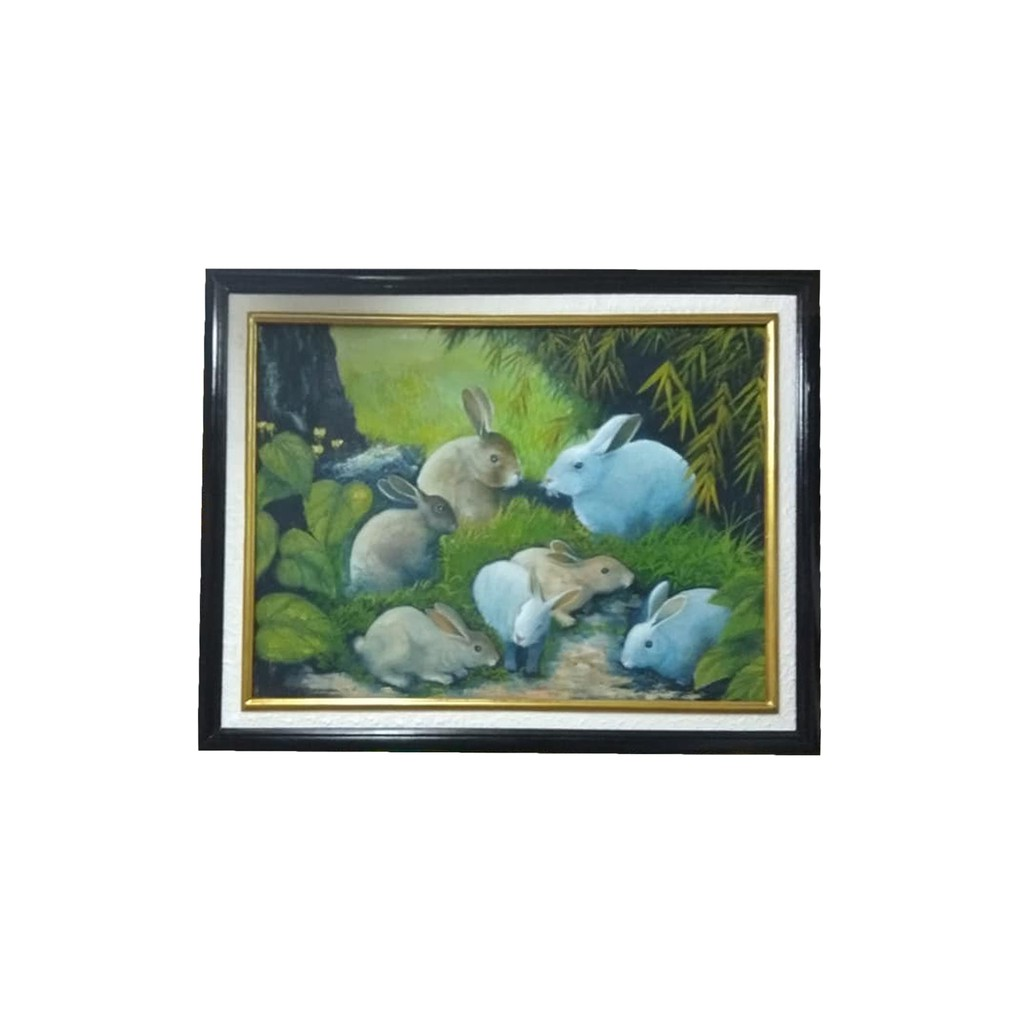lukisan: (154, 259, 871, 787)
